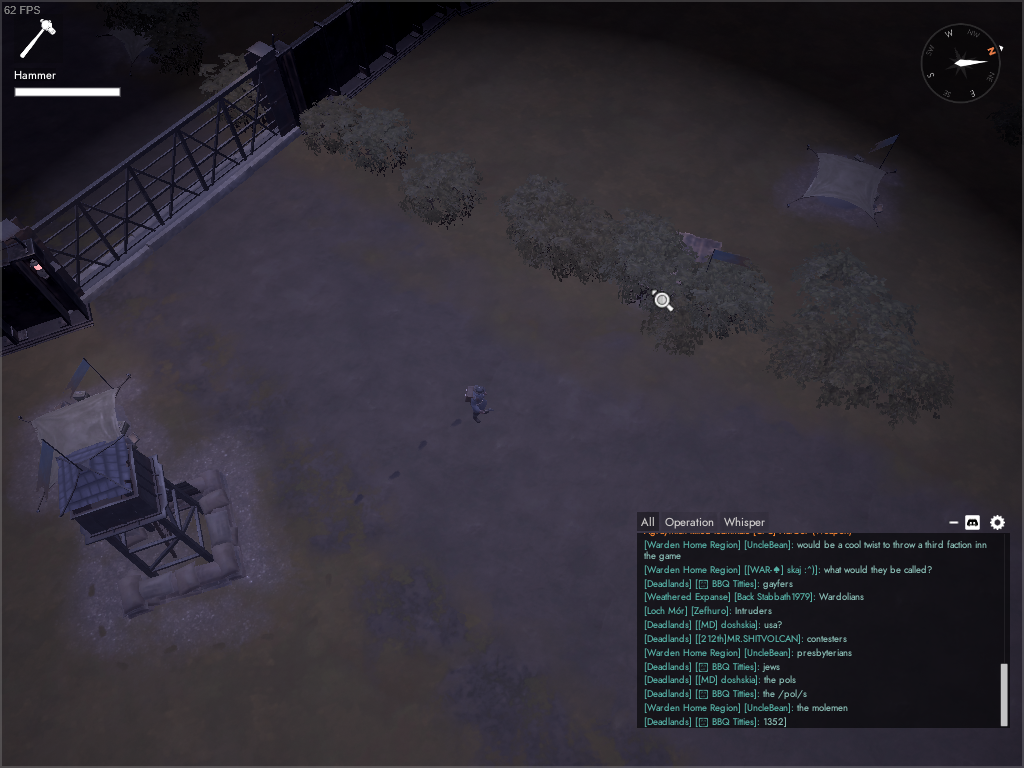fortified_wall: (267, 1, 467, 132), (1, 234, 99, 360)
foxhole: (14, 354, 151, 501), (777, 138, 908, 235), (95, 1, 181, 76)
pillbox: (617, 218, 741, 326)
player: (461, 379, 496, 426)
raised_gate: (1, 39, 313, 311)
watchtower: (31, 434, 255, 624)
